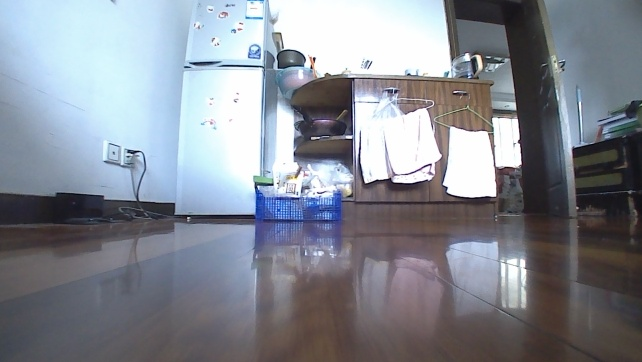charger: (51, 189, 115, 227)
door_anno: (522, 0, 582, 223)
refrigerator: (171, 0, 282, 220)
wire: (116, 147, 172, 223)
